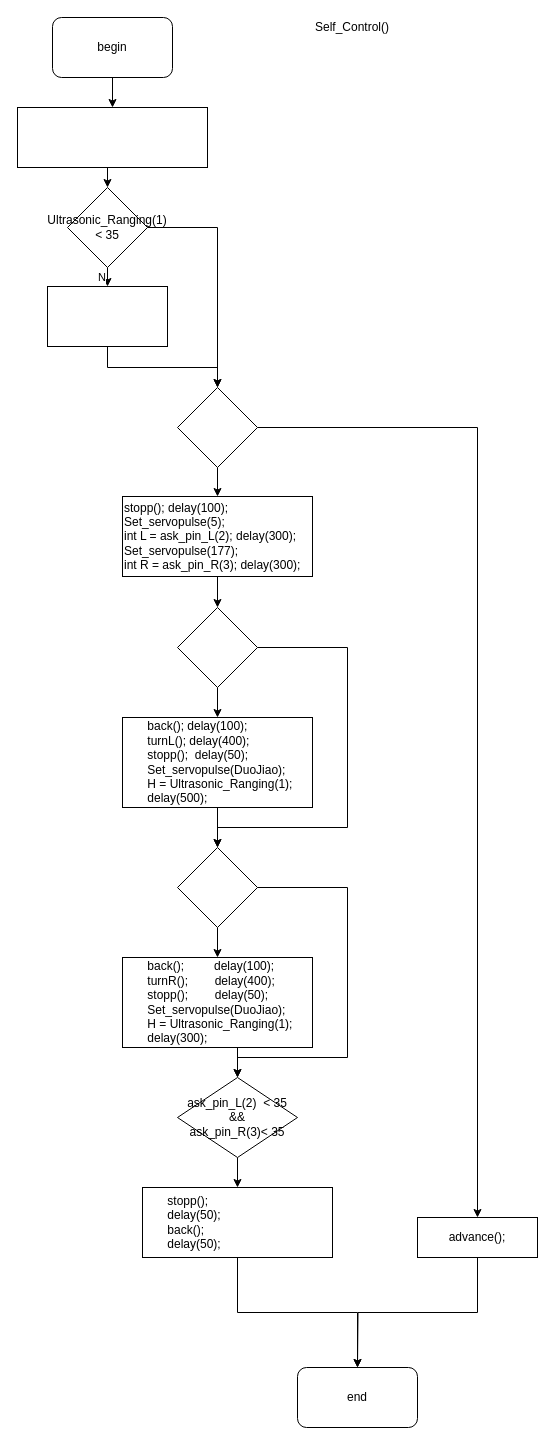
Some shapes in this 555 by 1445 pixel diagram are drawn without their labels. Each missing label, with the box of its shape:
ask_pin_L(2) <= ask_pin_R(3): (176, 846, 258, 928)
ask_pin_L(2) > ask_pin_R(3): (176, 606, 258, 688)
Set_servopulse(DuoJiao); H = Ultrasonic_Ranging(1); delay(300);: (16, 106, 208, 168)
stopp(); delay(100); back(); delay(50);: (46, 286, 168, 346)
Ultrasonic_Ranging(1) < 60: (176, 386, 258, 468)
